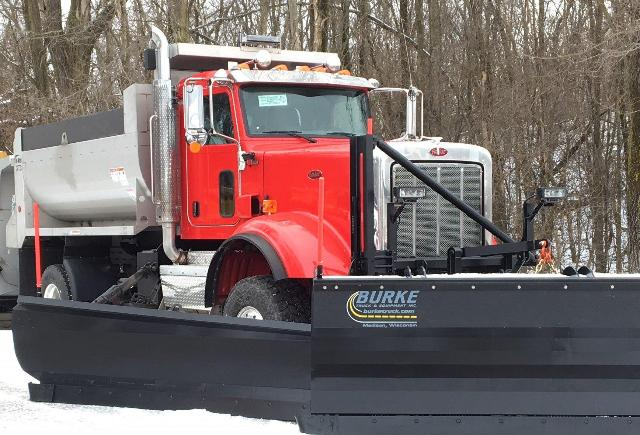truck: (2, 11, 498, 276)
